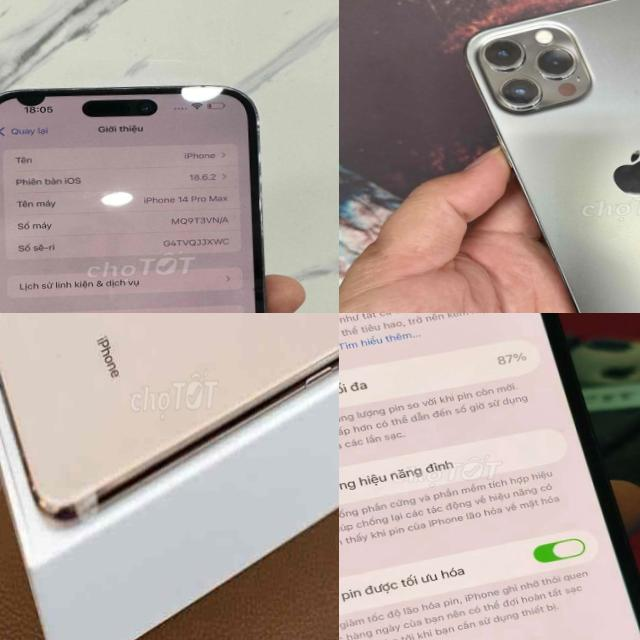gen_12_13: (339, 313, 640, 640), (465, 0, 640, 313)
gen_14: (0, 71, 282, 313)
gen_x_xs: (0, 313, 339, 519)
screen_defect: (0, 76, 61, 117)
